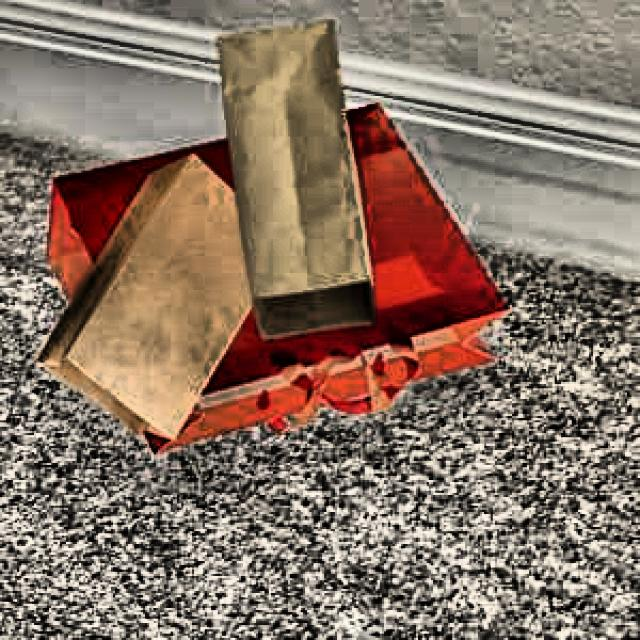Paper-bag: (0, 56, 521, 450), (28, 135, 267, 471), (188, 0, 400, 345)
